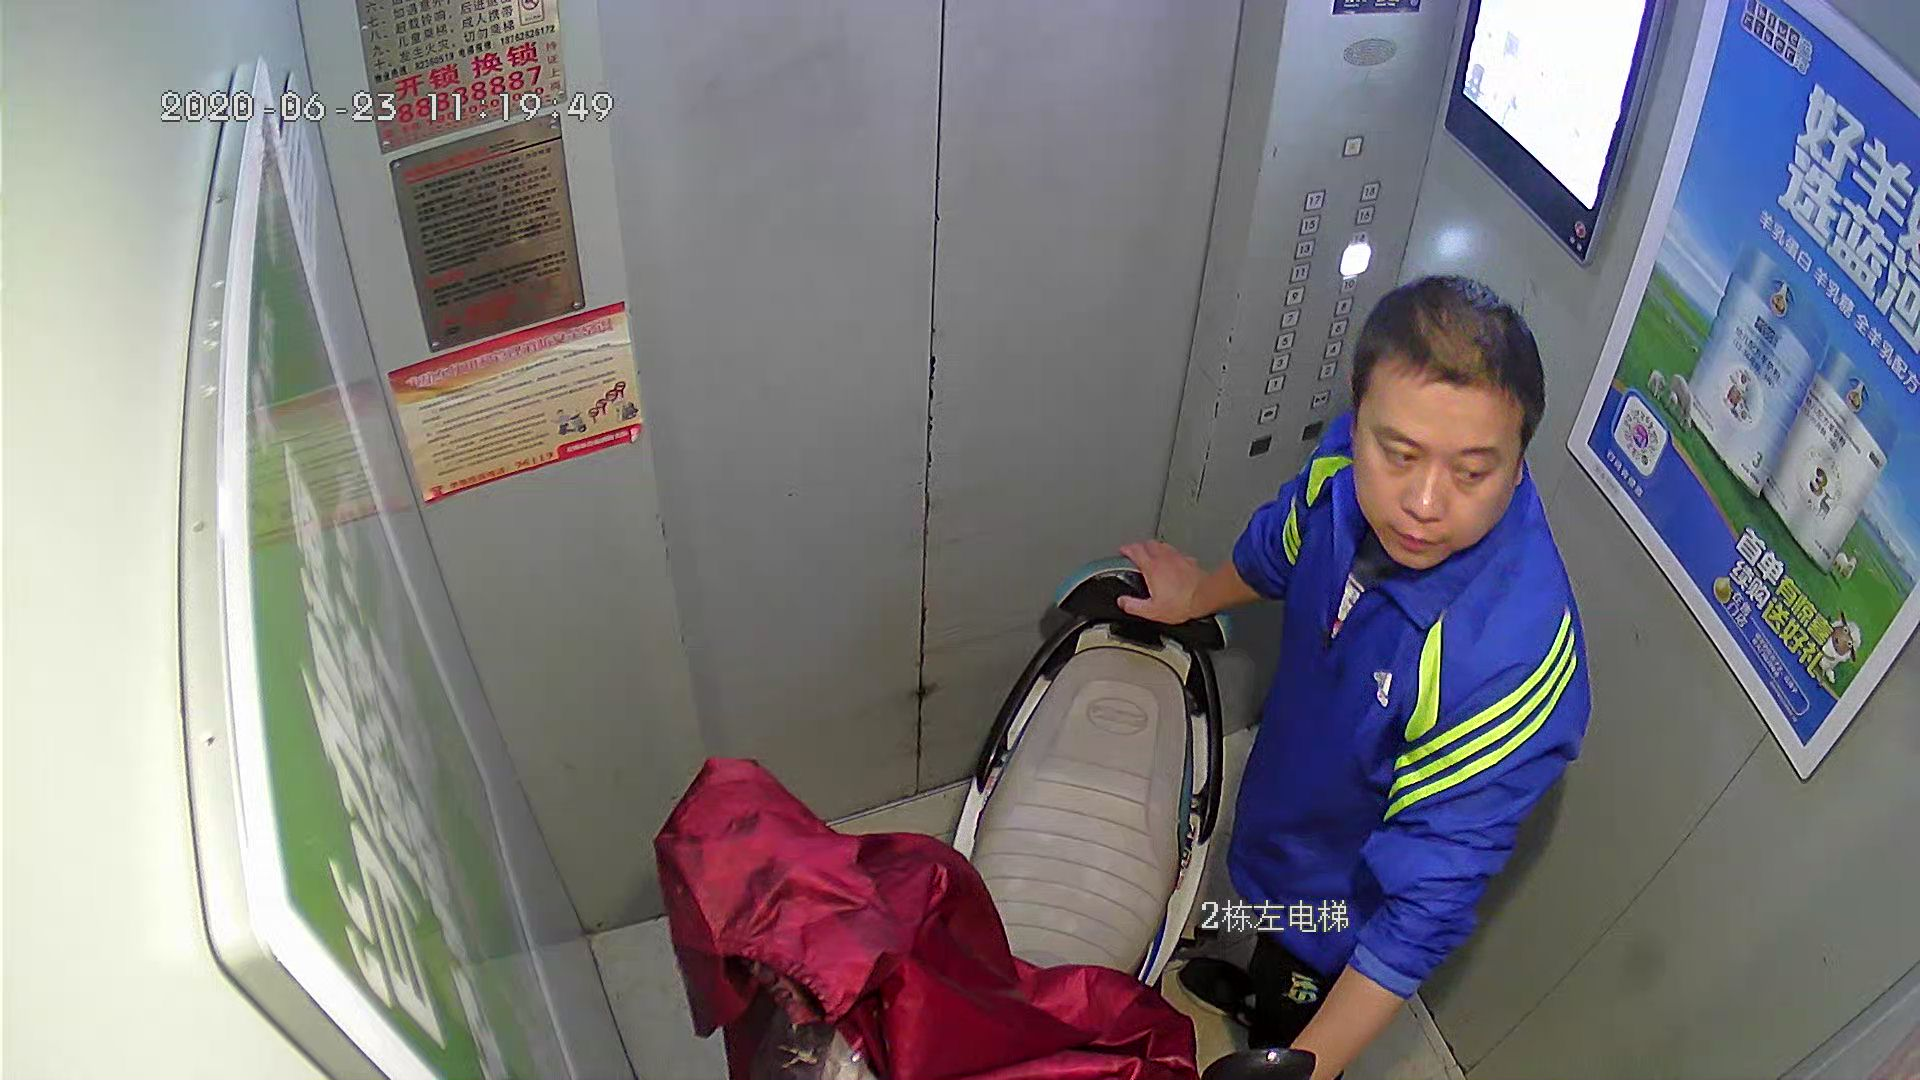Electric-bicycle: (744, 555, 1273, 1069)
